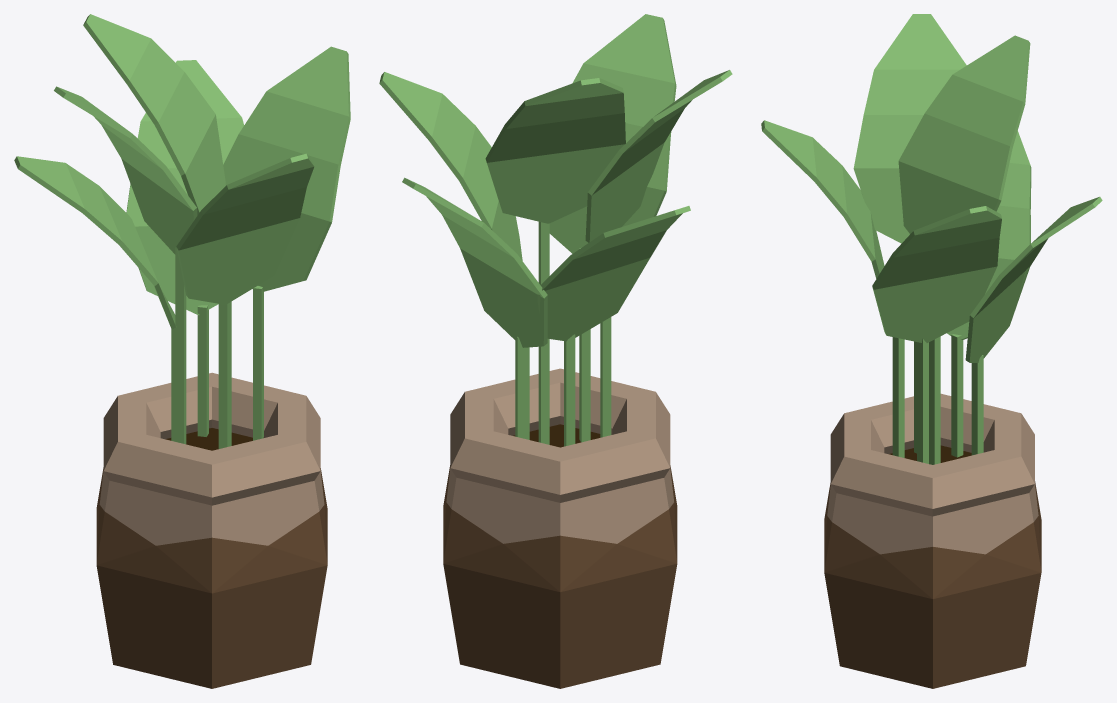
Rendered from BigOl_Plant.fbx.
The picture shows the model from 3 angles, left to right: view 1: azimuth 30°, elevation 25°; view 2: azimuth 150°, elevation 25°; view 3: azimuth 270°, elevation 25°; orthographic projection. The views are drawn at different scales.
Parts seen in each view (by area): view 1: Torus, Torus.001, Cylinder.014, Cylinder.011, Cylinder.013, Cylinder.010, Cylinder.012, Cylinder.015, Cylinder.009, Cylinder.004, Cylinder.005, Cylinder.006 (+2 smaller); view 2: Torus, Torus.001, Cylinder.013, Cylinder.011, Cylinder.015, Cylinder.012, Cylinder.014, Cylinder.010, Cylinder.007, Cylinder.009, Cylinder.004, Cylinder.008 (+2 smaller); view 3: Torus, Torus.001, Cylinder.013, Cylinder.014, Cylinder.010, Cylinder.011, Cylinder.012, Cylinder.015, Cylinder.008, Cylinder.004, Cylinder.007, Cylinder.005 (+1 smaller).
Part boxes in pixels (left/top/right/bottom): Torus: left=96, top=467, right=327, bottom=688; Torus.001: left=103, top=372, right=320, bottom=505; Cylinder.014: left=223, top=46, right=350, bottom=291; Cylinder.011: left=176, top=153, right=314, bottom=304; Cylinder.013: left=83, top=14, right=225, bottom=215; Cylinder.010: left=54, top=86, right=197, bottom=254; Cylinder.012: left=126, top=60, right=244, bottom=315; Cylinder.015: left=14, top=156, right=176, bottom=329; Cylinder.009: left=175, top=247, right=186, bottom=444; Cylinder.004: left=218, top=303, right=229, bottom=448; Cylinder.005: left=253, top=286, right=263, bottom=440; Cylinder.006: left=197, top=305, right=208, bottom=436; Torus: left=443, top=465, right=677, bottom=688; Torus.001: left=450, top=368, right=670, bottom=502; Cylinder.013: left=485, top=78, right=625, bottom=223; Cylinder.011: left=549, top=14, right=676, bottom=253; Cylinder.015: left=537, top=206, right=690, bottom=341; Cylinder.012: left=402, top=177, right=547, bottom=347; Cylinder.014: left=379, top=72, right=522, bottom=260; Cylinder.010: left=585, top=70, right=732, bottom=242; Cylinder.007: left=538, top=221, right=549, bottom=444; Cylinder.009: left=600, top=317, right=611, bottom=437; Cylinder.004: left=579, top=248, right=590, bottom=442; Cylinder.008: left=564, top=334, right=575, bottom=446; Torus: left=824, top=481, right=1041, bottom=688; Torus.001: left=830, top=393, right=1034, bottom=516; Cylinder.013: left=898, top=35, right=1030, bottom=233; Cylinder.014: left=872, top=206, right=1001, bottom=342; Cylinder.010: left=853, top=14, right=966, bottom=243; Cylinder.011: left=761, top=120, right=884, bottom=278; Cylinder.012: left=965, top=196, right=1102, bottom=362; Cylinder.015: left=947, top=131, right=1031, bottom=339; Cylinder.008: left=951, top=334, right=963, bottom=457; Cylinder.004: left=892, top=337, right=904, bottom=457; Cylinder.007: left=929, top=336, right=940, bottom=464; Cylinder.005: left=917, top=339, right=928, bottom=463.
Size of the model in its own units: 240 by 437 by 237.
